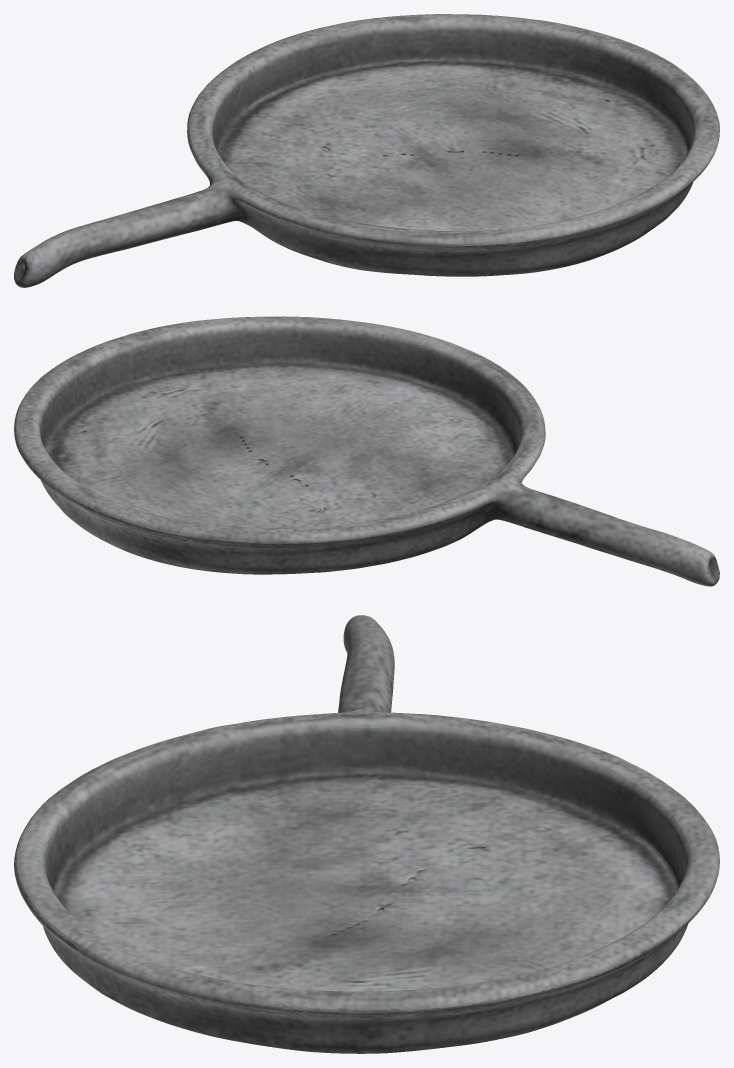
Rendered from 06_jiupan.glb.
The picture shows the model from 3 angles, top to bottom: view 1: azimuth 30°, elevation 25°; view 2: azimuth 150°, elevation 25°; view 3: azimuth 270°, elevation 25°; orthographic projection. The views are drawn at different scales.
Parts seen in each view (by area): view 1: geometry_0; view 2: geometry_0; view 3: geometry_0.
Part boxes in pixels (<box>): geometry_0: <box>14,14,719,287</box>; geometry_0: <box>14,316,719,586</box>; geometry_0: <box>14,615,719,1053</box>.
Size of the model in its own units: 0.38 by 0.0333 by 0.2644.
1 material, 1 textured.
